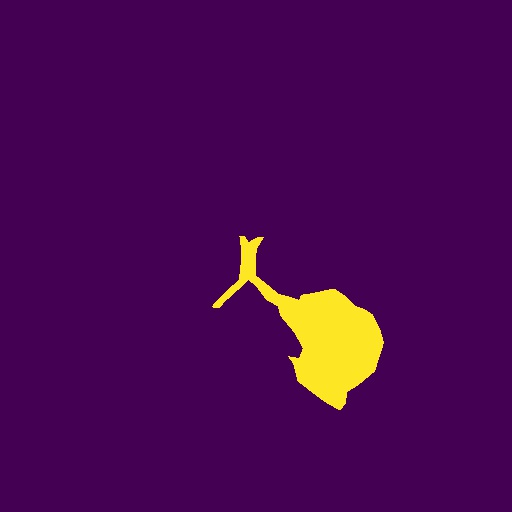Gliomia_tumour: (212, 236, 384, 410)
